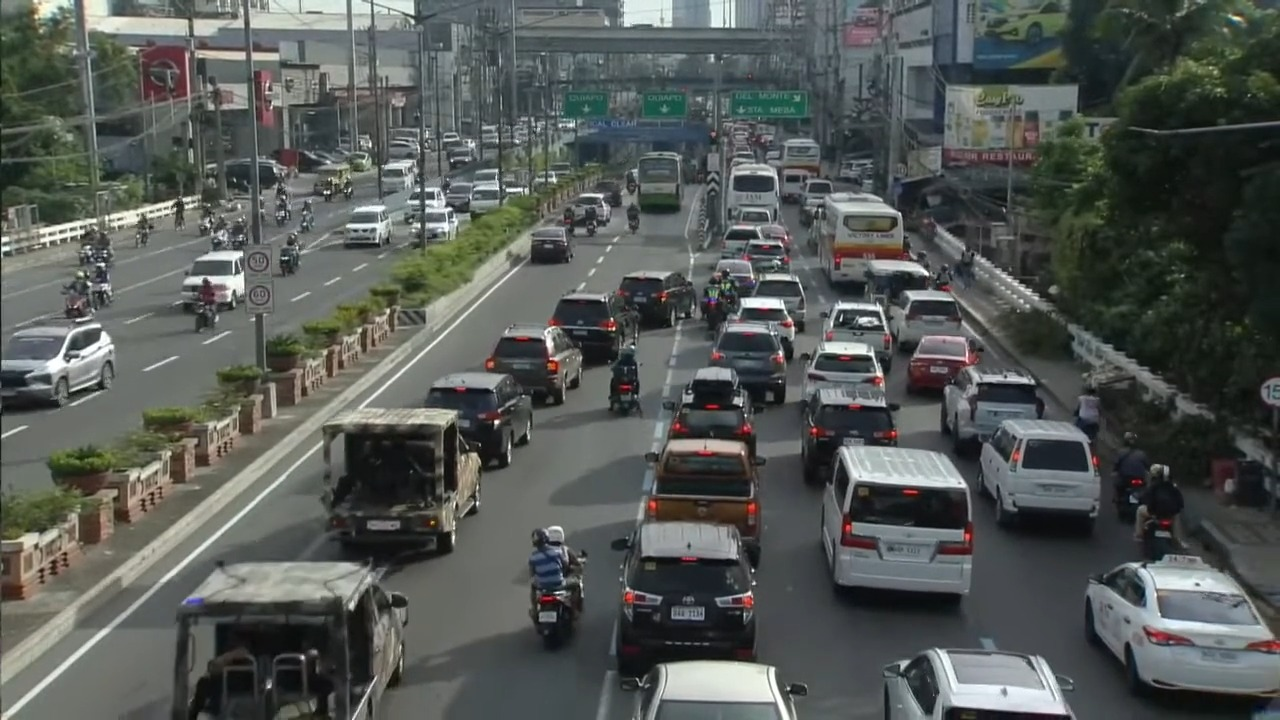bus: (817, 192, 905, 284), (725, 163, 780, 218), (637, 151, 682, 211), (780, 138, 820, 176)
car: (1084, 555, 1279, 701), (820, 445, 974, 604), (611, 521, 757, 676), (977, 419, 1101, 532), (882, 648, 1075, 719), (623, 660, 806, 719), (423, 371, 533, 467), (0, 318, 115, 406), (801, 386, 898, 483), (940, 365, 1045, 452), (663, 367, 762, 457), (485, 323, 583, 404), (710, 322, 786, 403), (550, 291, 637, 361), (821, 300, 893, 373), (801, 341, 885, 401), (888, 290, 966, 351), (618, 270, 696, 326), (728, 296, 795, 360), (906, 336, 982, 392), (980, 0, 1067, 46), (181, 251, 245, 311), (751, 273, 806, 332), (342, 205, 393, 247), (412, 207, 458, 245), (712, 258, 756, 296), (529, 227, 572, 263), (404, 187, 446, 223), (743, 240, 790, 272), (720, 224, 762, 258), (468, 183, 503, 219), (572, 194, 610, 225), (760, 223, 792, 253), (592, 179, 622, 206), (445, 182, 472, 212), (734, 206, 775, 224), (448, 149, 474, 169), (472, 168, 500, 185), (549, 162, 573, 177), (440, 131, 459, 143)
motorcycle: (530, 589, 578, 649), (1141, 517, 1179, 561), (1114, 478, 1144, 521), (610, 383, 639, 416), (703, 300, 724, 339), (64, 291, 92, 318), (195, 303, 217, 332), (90, 282, 112, 309), (279, 247, 297, 275), (91, 247, 113, 265), (211, 230, 228, 251), (78, 244, 94, 266), (230, 233, 247, 249), (135, 228, 148, 246), (300, 213, 313, 231), (198, 218, 211, 236), (275, 209, 287, 226), (563, 217, 574, 235), (628, 218, 639, 234), (586, 220, 596, 236), (322, 187, 333, 201), (344, 186, 353, 200), (626, 182, 636, 193)
truck: (169, 561, 407, 719), (321, 408, 482, 553)
